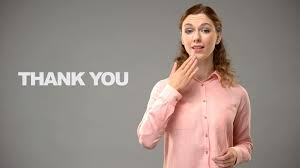ThankYou: (168, 54, 199, 84)
